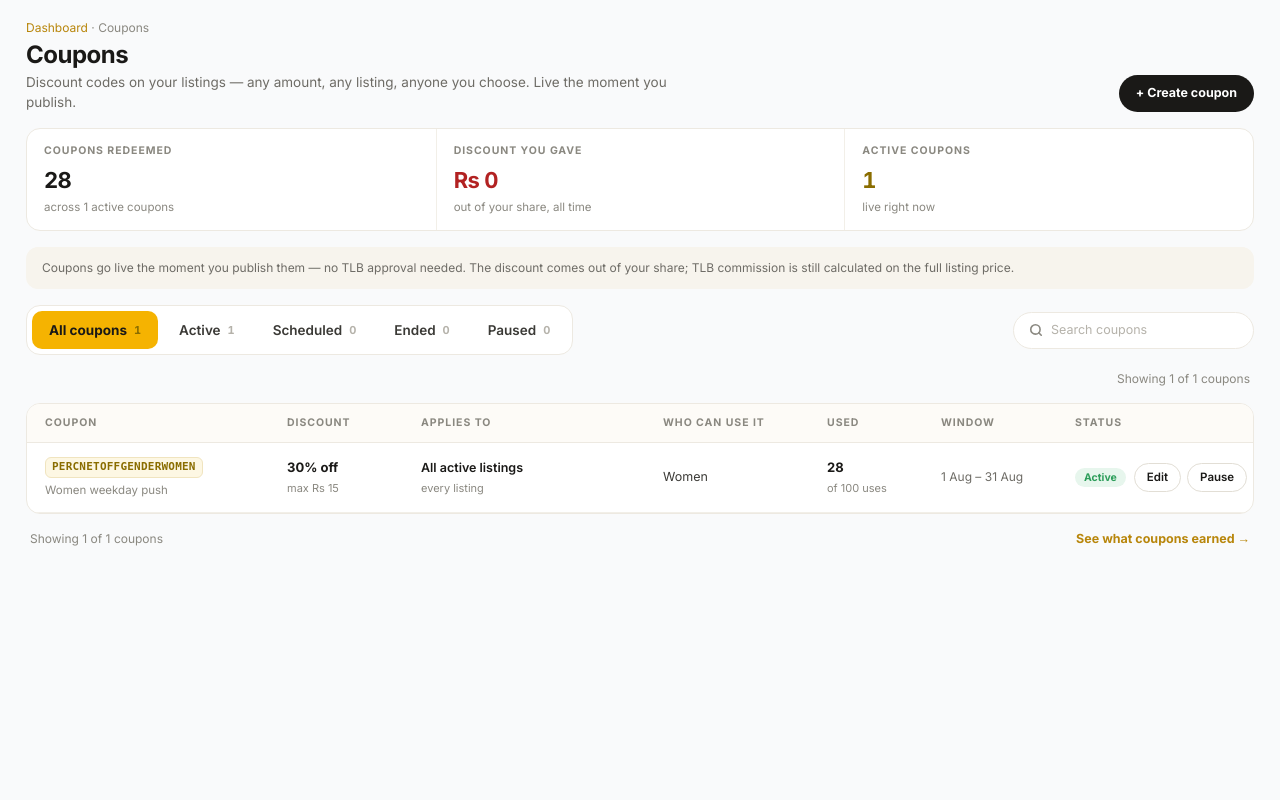
Coupons — editing › shows the code as locked, and says why
The image size is (1280, 800).
Expected: the text "PERCNETOFFGENDERWOMEN" is shown, [45, 457, 203, 478]
Click the button "Edit" at (1157, 477), box [1134, 463, 1181, 492]
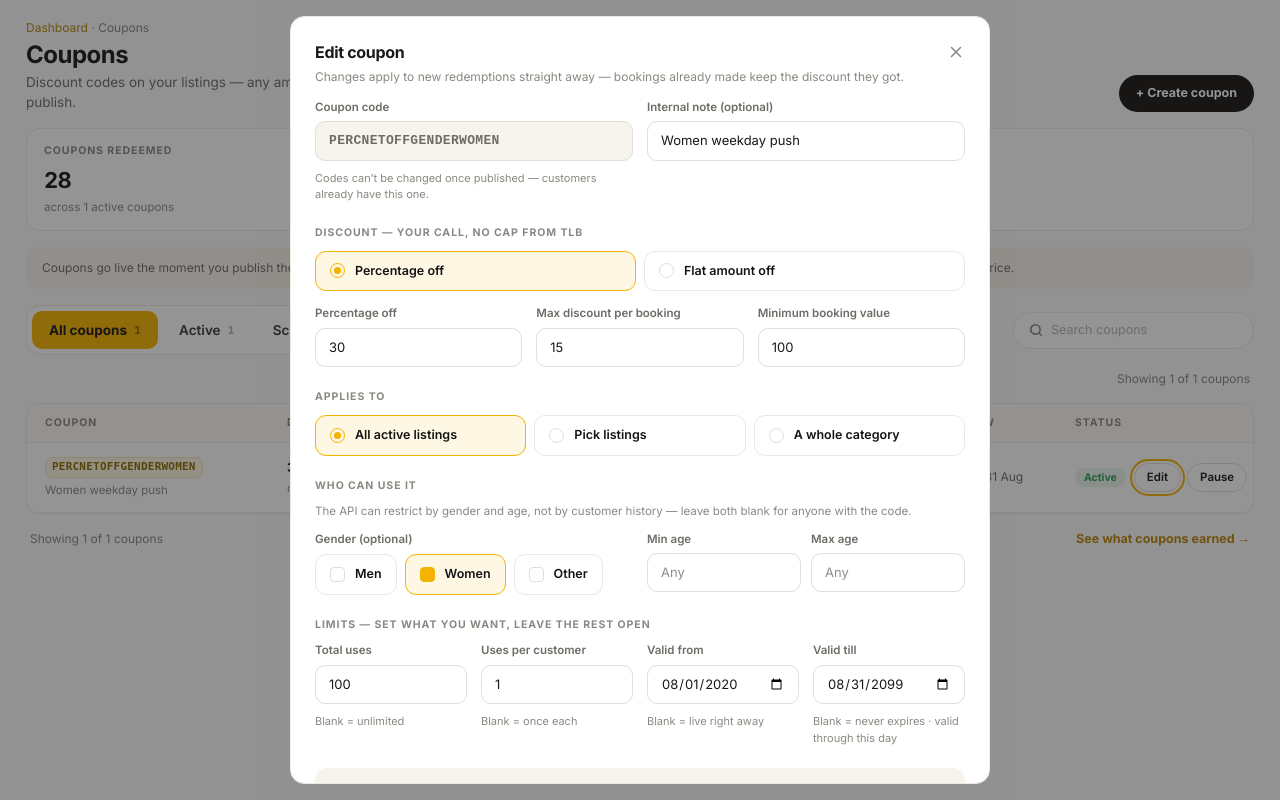
Now the field showing "PERCNETOFFGENDERWOMEN" below "Coupon code" is disabled, box [315, 121, 633, 161]
